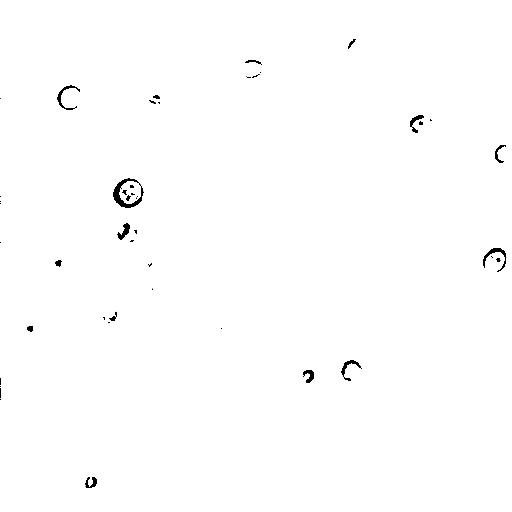micro-algae: (476, 0, 510, 105), (93, 205, 137, 248), (367, 73, 409, 114), (41, 249, 75, 279), (113, 178, 145, 208), (137, 255, 167, 283), (481, 246, 509, 275), (58, 83, 84, 111), (143, 275, 171, 299), (1, 370, 24, 399), (18, 313, 44, 337), (339, 359, 365, 382), (346, 35, 369, 59), (409, 112, 435, 133), (239, 59, 265, 80), (99, 301, 121, 325), (116, 223, 138, 245), (155, 3, 177, 23), (112, 501, 148, 512), (493, 143, 511, 163), (301, 366, 317, 383), (85, 474, 99, 489)
